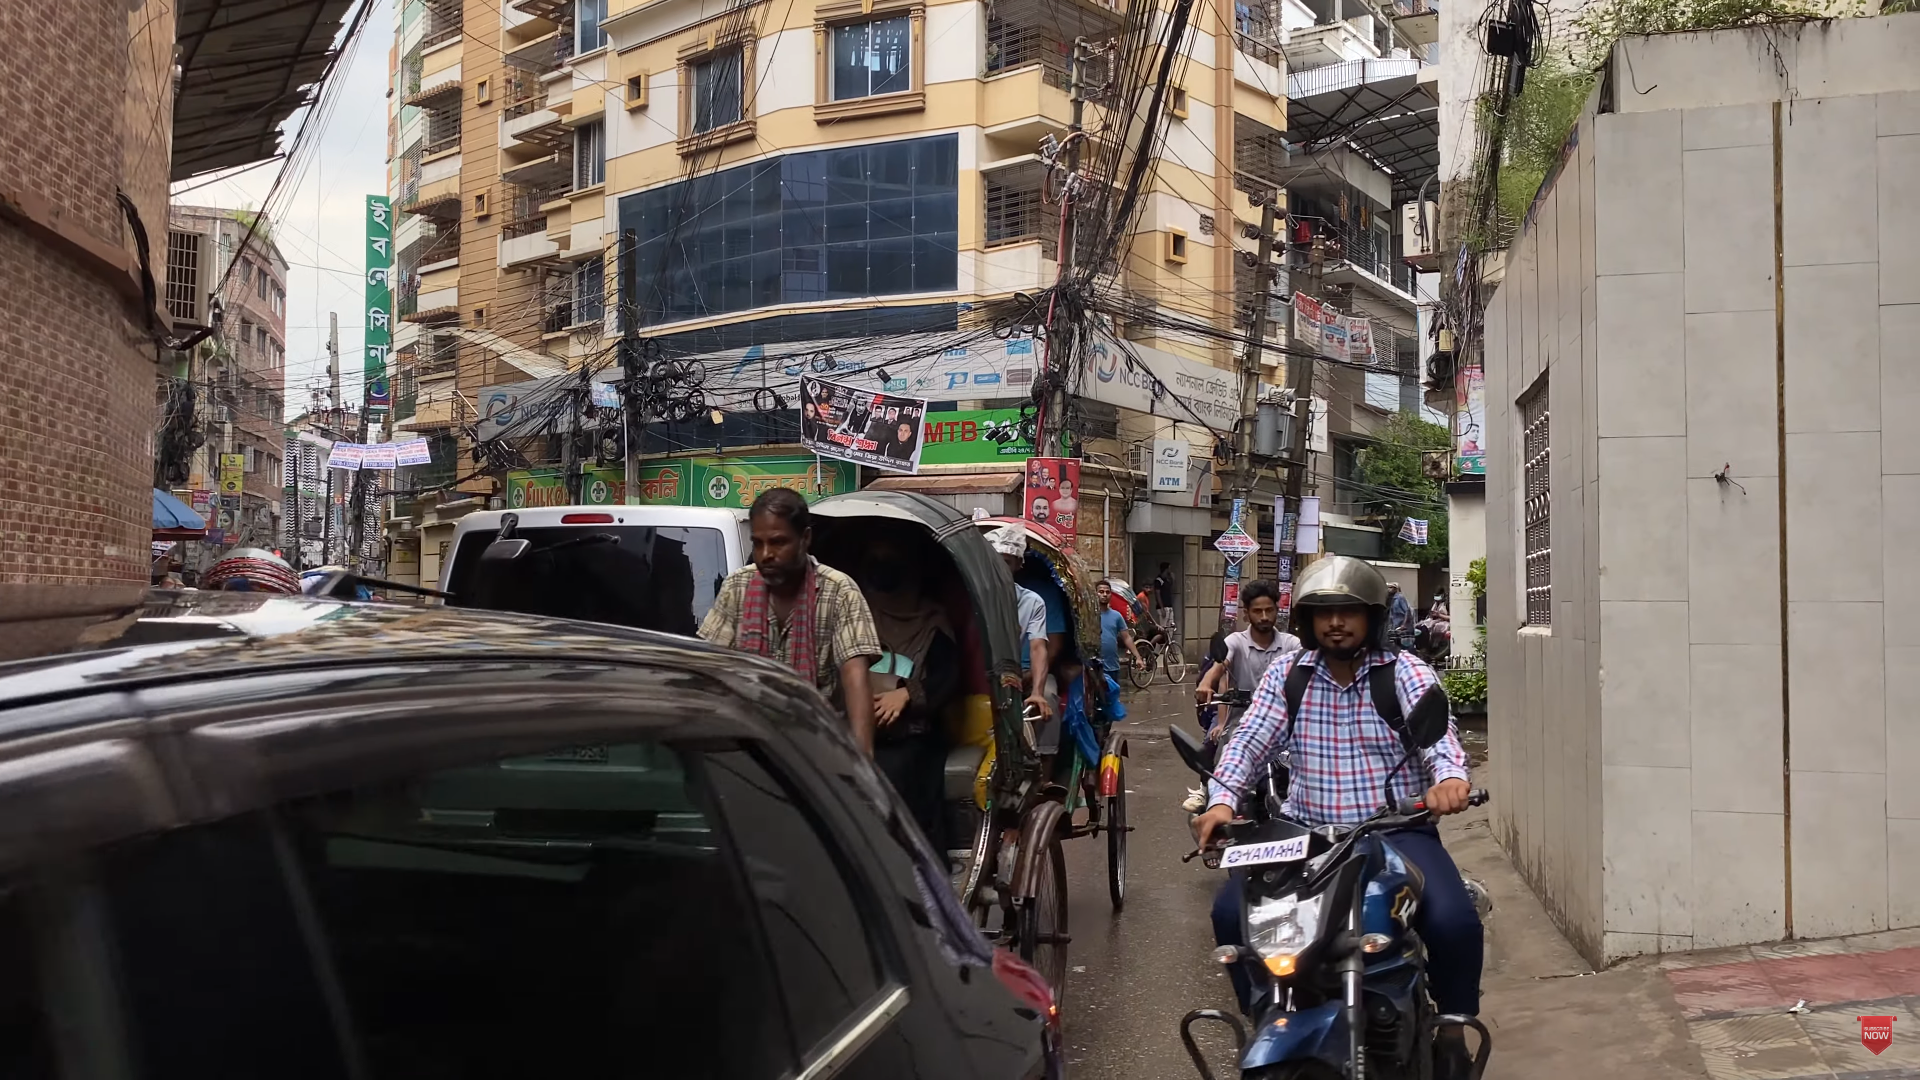Motorcycle: (1166, 555, 1502, 1058)
